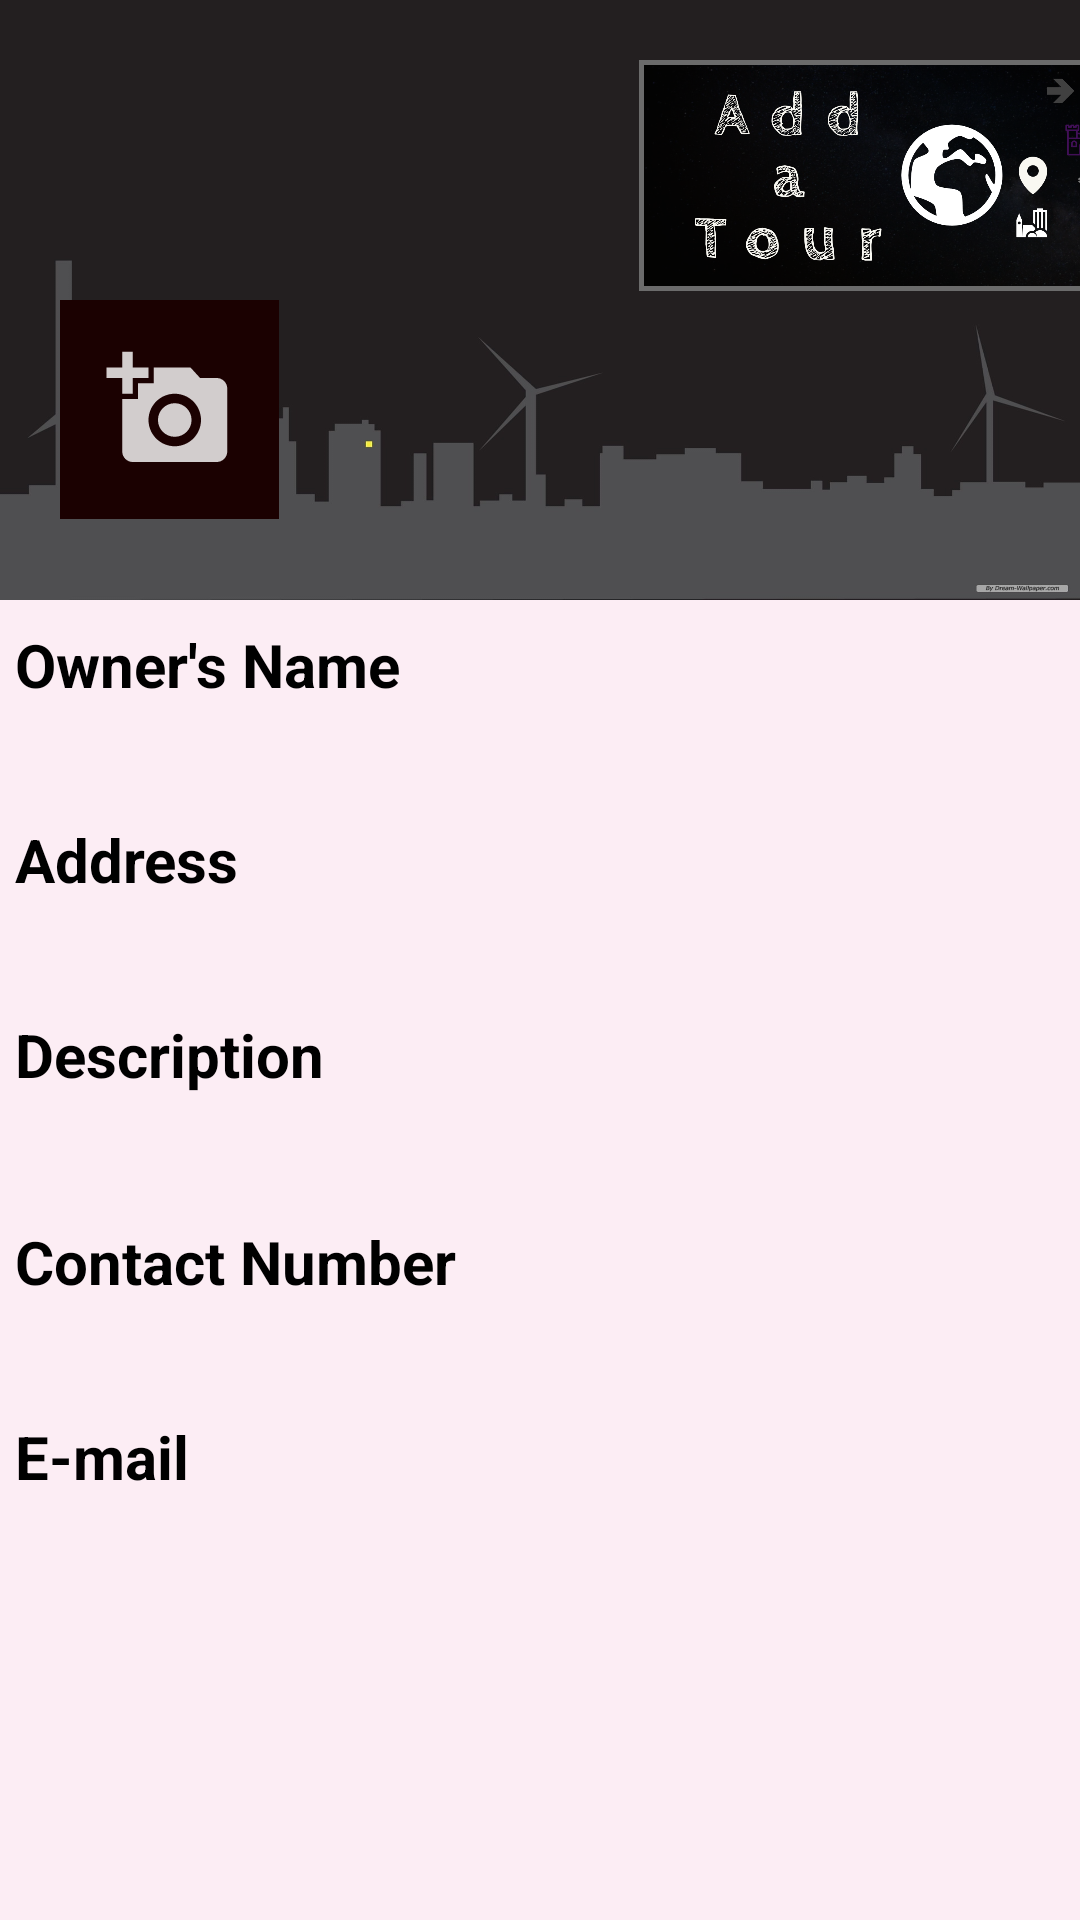

Icon click points for this 1080 × 1920 phone screenshot, format point (x, y):
add: point (169, 409)
